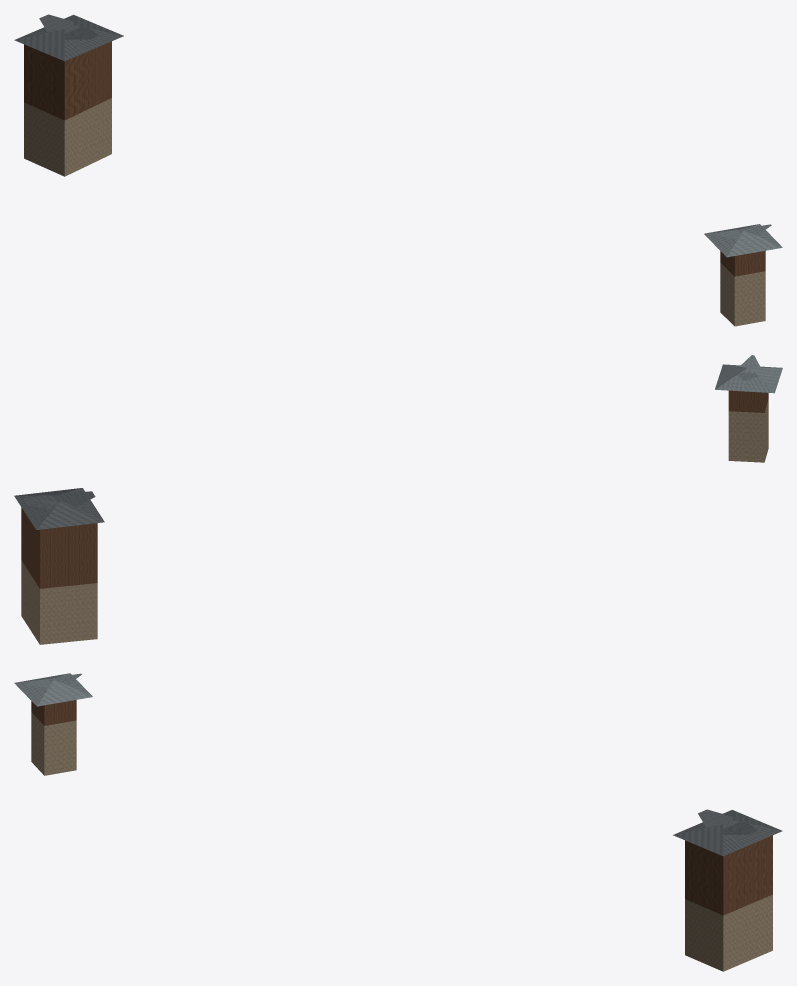
Rendered from bld_c10_19_426.gltf.
The picture shows the model from 3 angles, top to bottom: view 1: azimuth 90°, elevation 25°; view 2: azimuth 150°, elevation 25°; view 3: azimuth 270°, elevation 25°; orthographic projection.
Visible parts, largest first — view 1: bld_c10_19_426; view 2: bld_c10_19_426; view 3: bld_c10_19_426.
Boxes of the visible parts, x1,y1,x2,y2 form: bld_c10_19_426: (14, 14, 782, 326); bld_c10_19_426: (14, 355, 782, 644); bld_c10_19_426: (14, 673, 782, 971).
Bounding box in the file's own units: 41.45 × 11.8 × 63.24.
Materials: 4 (4 with a texture image).
